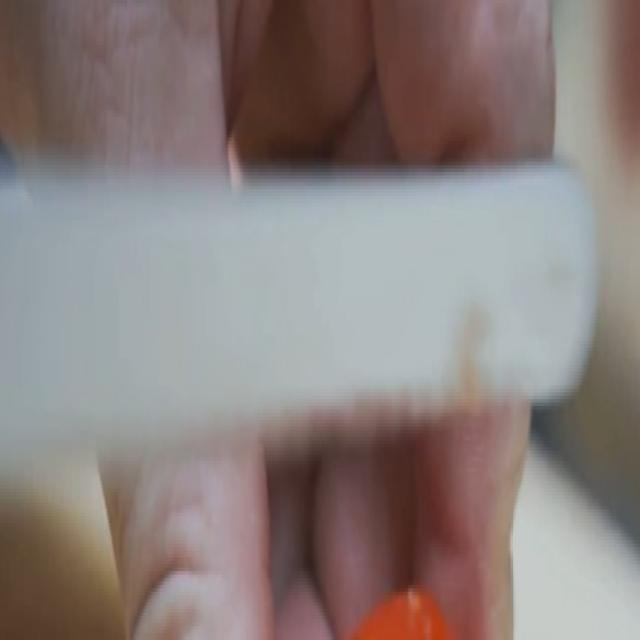knives: (27, 114, 609, 442)
